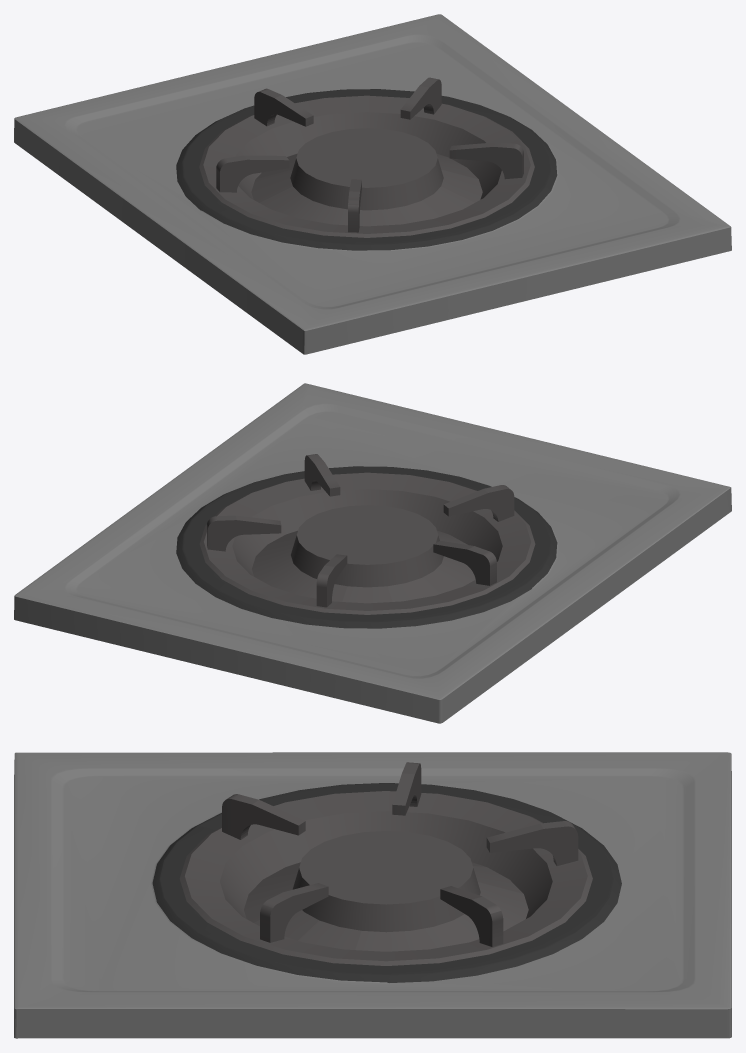
The model's file is Cooker.fbx.
3 views of the same model, one above another, from view 1: azimuth 30°, elevation 25°; view 2: azimuth 150°, elevation 25°; view 3: azimuth 270°, elevation 25° (orthographic). The views are drawn at different scales.
Parts seen in each view (by area): view 1: Lower, Upper; view 2: Lower, Upper; view 3: Lower, Upper.
Boxes of the visible parts, x1,y1,x2,y2 form: Lower: (14,14,731,354); Upper: (199,77,534,237); Lower: (14,383,731,723); Upper: (199,454,535,614); Lower: (14,752,731,1038); Upper: (179,762,592,965).
Bounding box in the file's own units: 1.52 × 0.1873 × 1.79.
